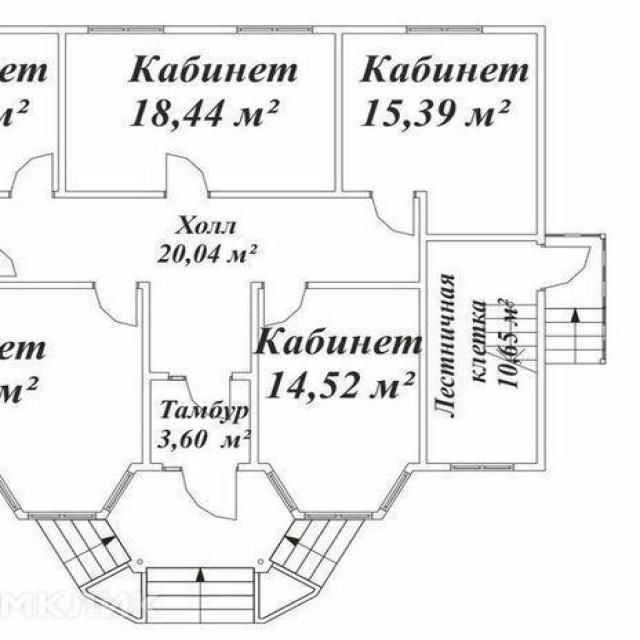Corridors: (0, 199, 419, 372), (107, 471, 293, 559), (152, 381, 250, 464)
Doors: (181, 463, 239, 522), (537, 244, 594, 291), (184, 372, 232, 424), (262, 281, 309, 330), (164, 151, 211, 199), (93, 281, 139, 330), (370, 190, 417, 237), (11, 150, 56, 199), (0, 248, 21, 279)
LBwalls: (483, 24, 547, 247), (232, 281, 276, 475), (128, 281, 170, 474), (514, 290, 546, 471), (313, 24, 406, 34), (1, 26, 89, 34), (165, 26, 238, 34), (404, 462, 450, 474), (370, 508, 388, 520), (290, 507, 305, 521), (13, 509, 29, 521), (97, 508, 113, 520)
Offices: (68, 36, 335, 189), (344, 34, 536, 234), (260, 289, 417, 511), (0, 289, 142, 512), (0, 34, 58, 190)
Stairs: (36, 519, 366, 625), (429, 241, 537, 463), (544, 238, 603, 365)
Walls: (305, 191, 535, 464), (206, 33, 373, 199), (51, 33, 166, 199), (546, 233, 607, 365), (0, 281, 97, 289), (162, 465, 184, 472), (168, 374, 187, 381), (0, 190, 12, 199)
Windows: (103, 471, 136, 512), (380, 469, 411, 512), (267, 470, 299, 511), (406, 24, 483, 35), (0, 474, 22, 512), (236, 24, 315, 34), (89, 25, 164, 35), (29, 512, 97, 521), (304, 511, 371, 520), (450, 463, 514, 472)
